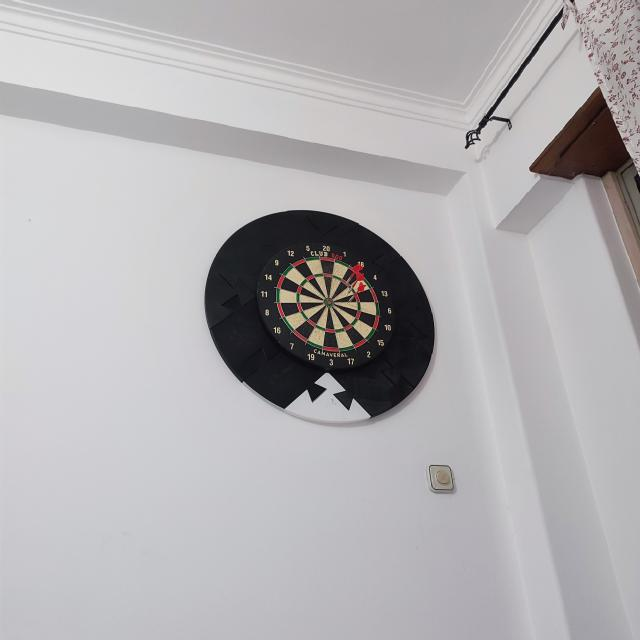dart: (344, 263, 363, 286), (346, 272, 364, 296), (347, 282, 366, 304), (347, 282, 366, 304), (344, 264, 363, 286), (347, 272, 364, 295)
